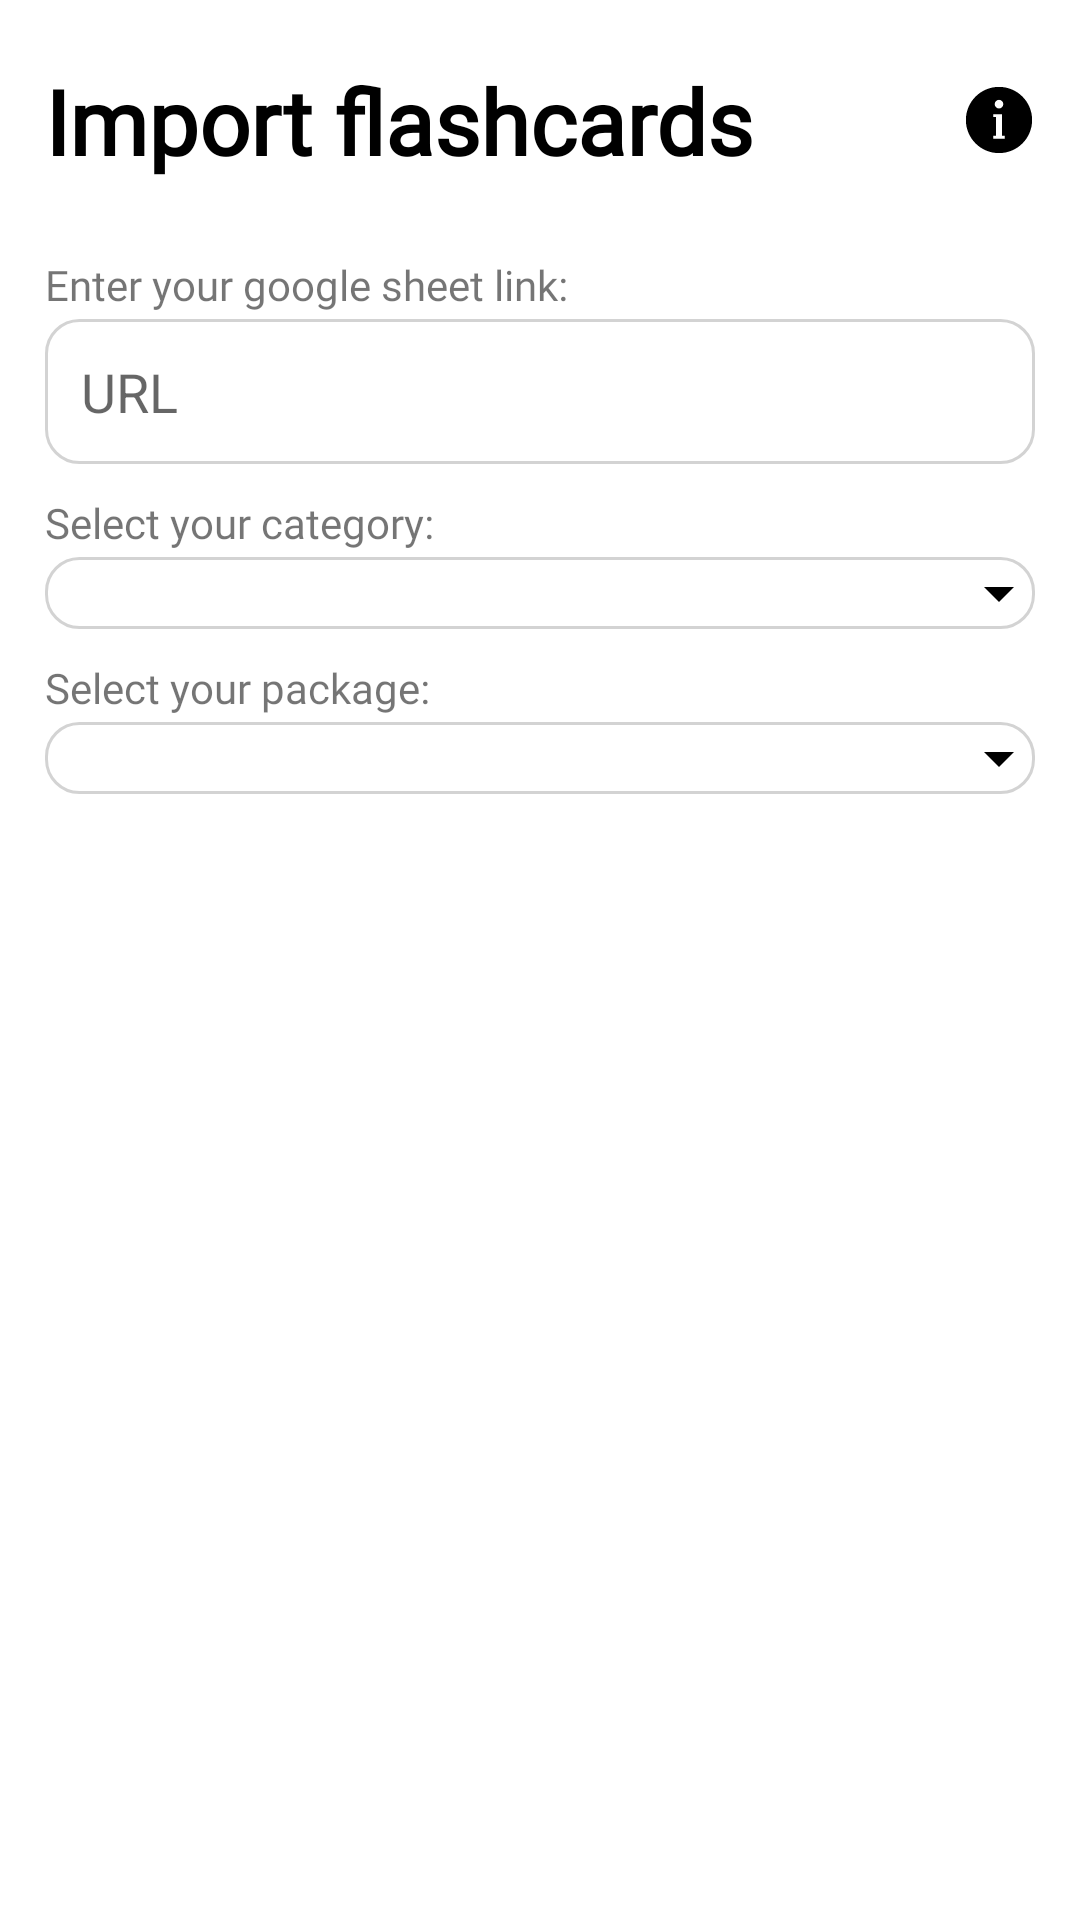

Screen size 1080*1920. Icon name, then its box in pixels as (x1, y1, x2, y2):
info: (966, 87, 1032, 153)
